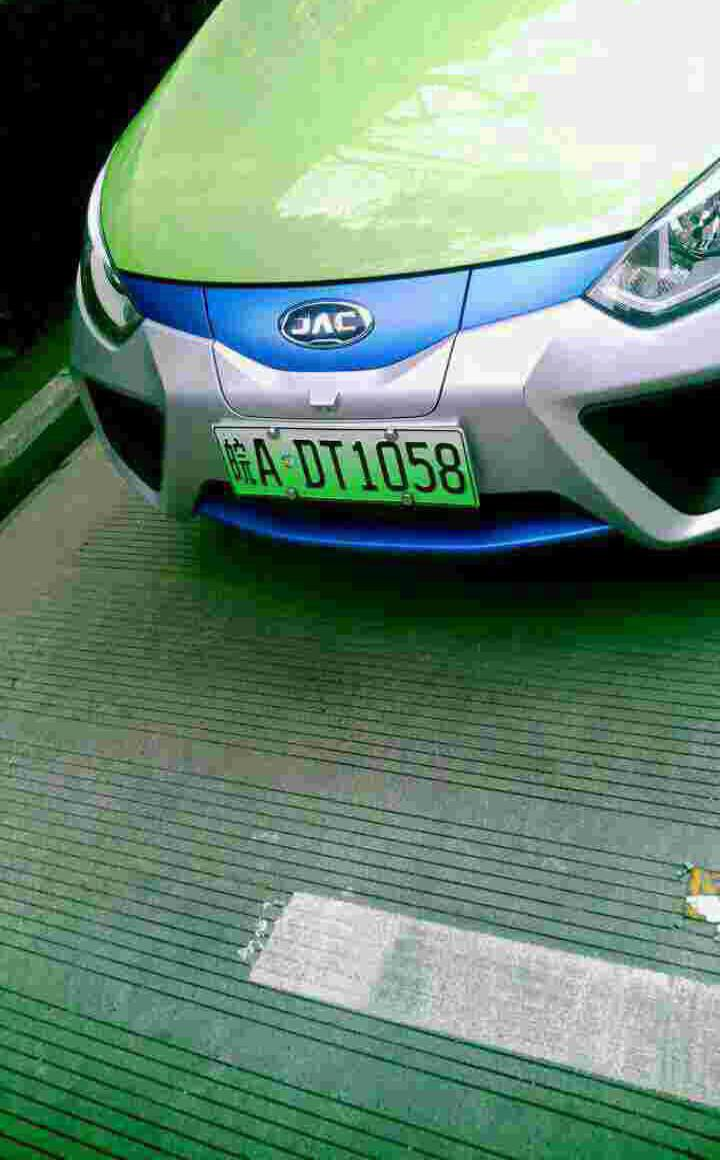car: (223, 414, 482, 522)
